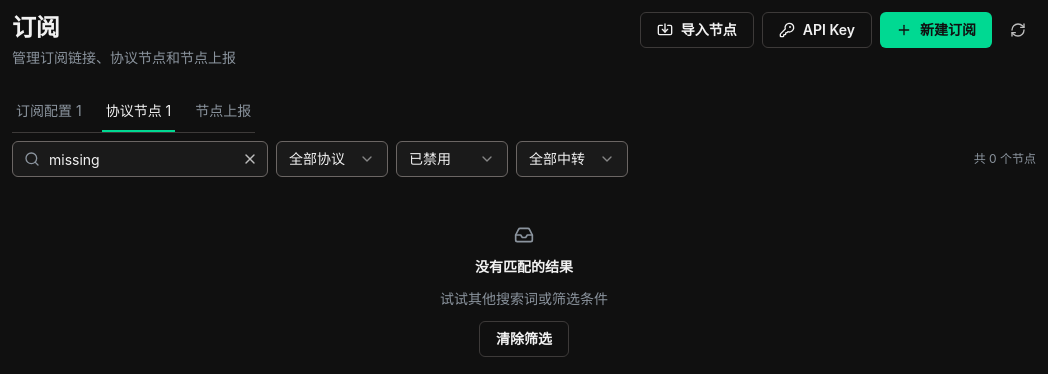
it: 订阅重构真实页面 › URL 还原 tab/数字状态，清除筛选保留书签
Expected: the heading "没有匹配的结果" is shown, [475,257,573,277]
Click the button "清除筛选".
click(524, 339)  # box [479,321,569,357]
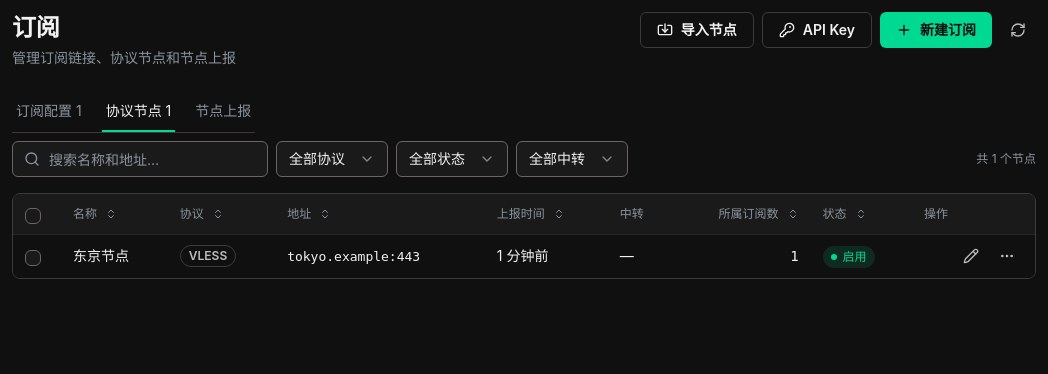
Expected: the text "东京节点" is shown, [73,247,129,264]
